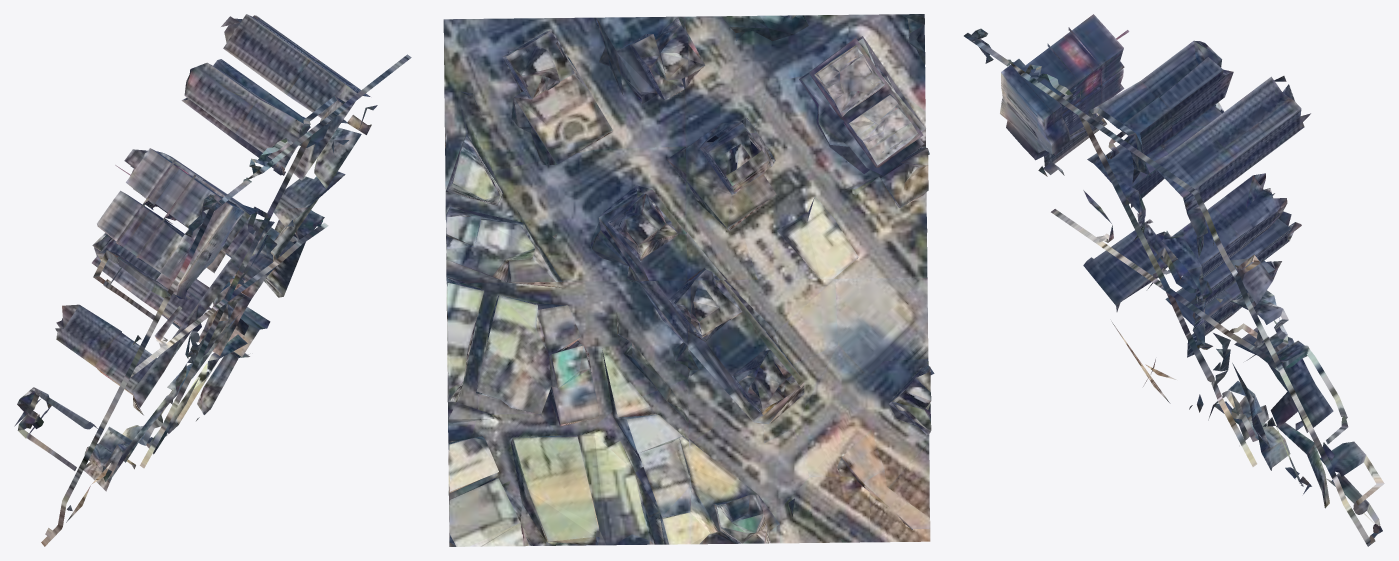
3 renders of one model, left to right at view 1: azimuth 30°, elevation 25°; view 2: azimuth 150°, elevation 25°; view 3: azimuth 270°, elevation 25°, orthographic. The views are drawn at different scales.
Size of the model in its own units: 316 by 313 by 265.
Materials: 1 (1 with a texture image).
